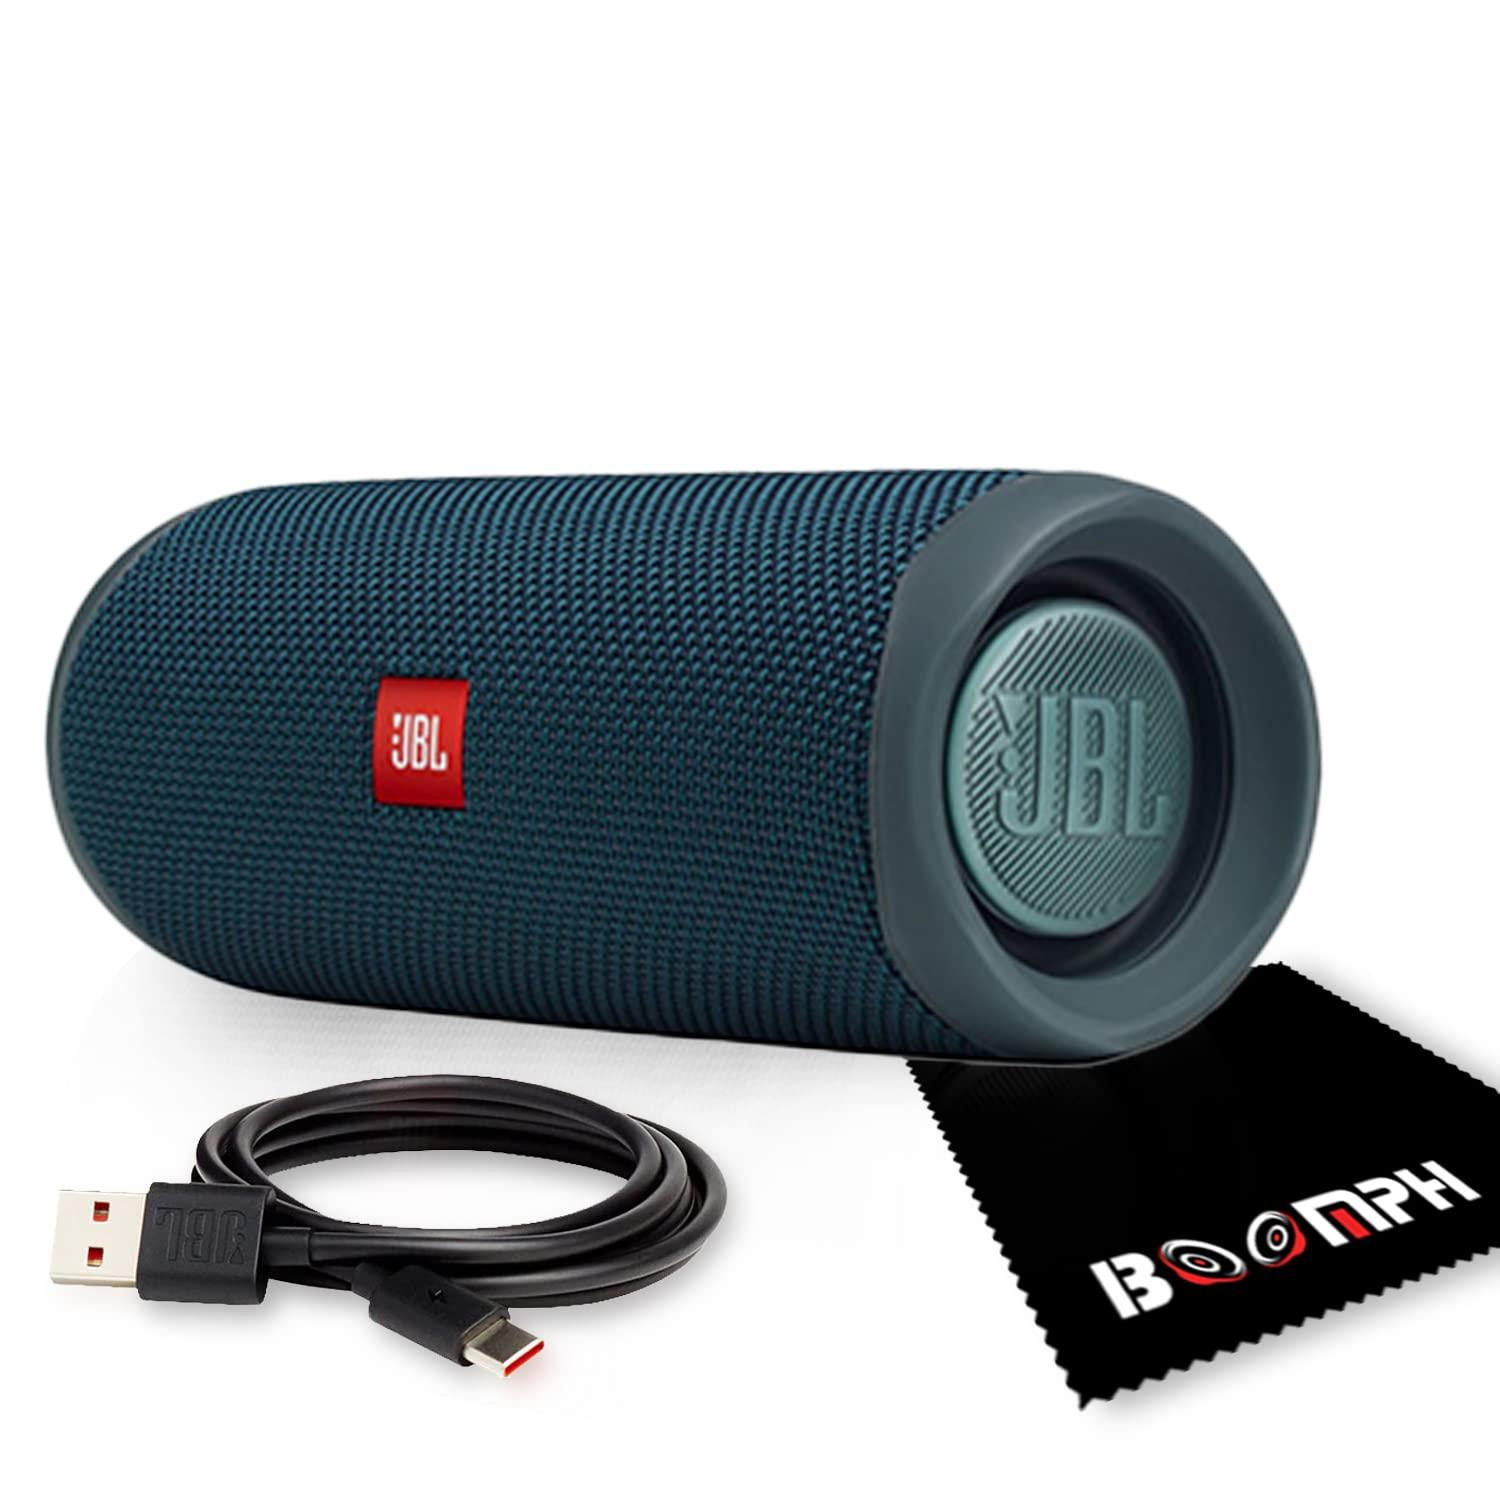speaker: (43, 466, 1327, 1074)
